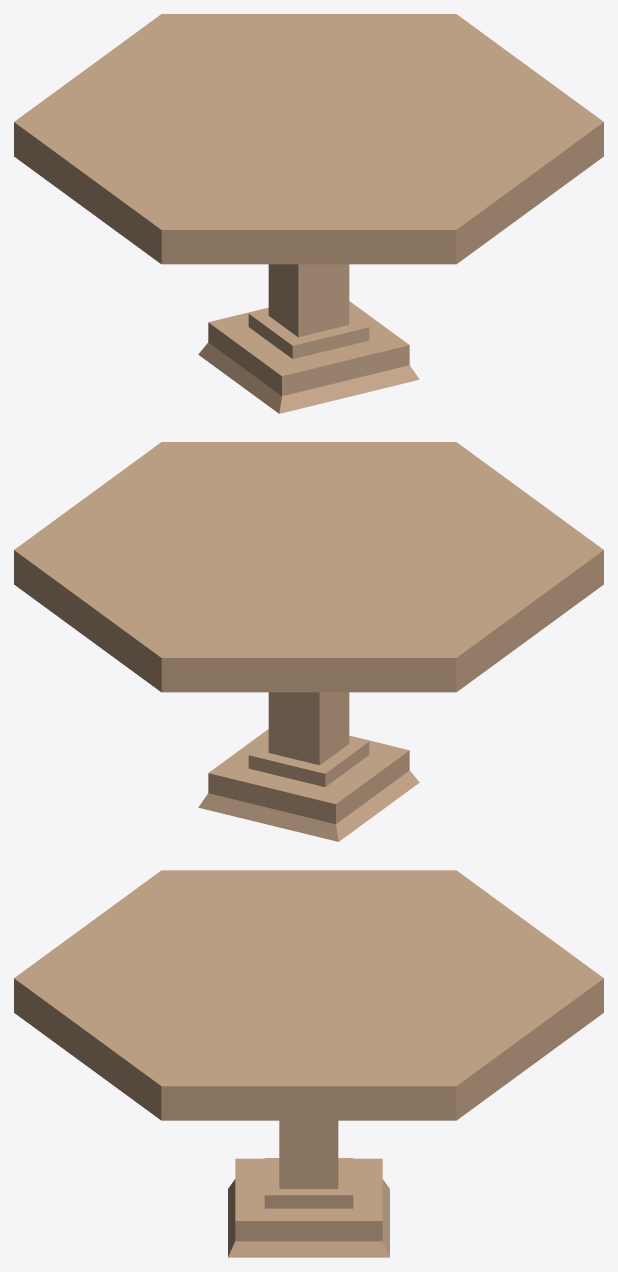
Rendered from tableRound.glb.
The picture shows the model from 3 angles, top to bottom: view 1: azimuth 30°, elevation 25°; view 2: azimuth 150°, elevation 25°; view 3: azimuth 270°, elevation 25°; orthographic projection.
Parts seen in each view (by area): view 1: tableRound; view 2: tableRound; view 3: tableRound.
Boxes of the visible parts, x1,y1,x2,y2 form: tableRound: (14,14,603,413); tableRound: (14,442,603,841); tableRound: (14,870,603,1257).
Size of the model in its own units: 0.6928 by 0.3667 by 0.8.
